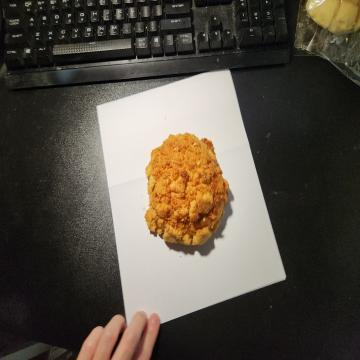soboru_bread: (146, 133, 229, 252)
